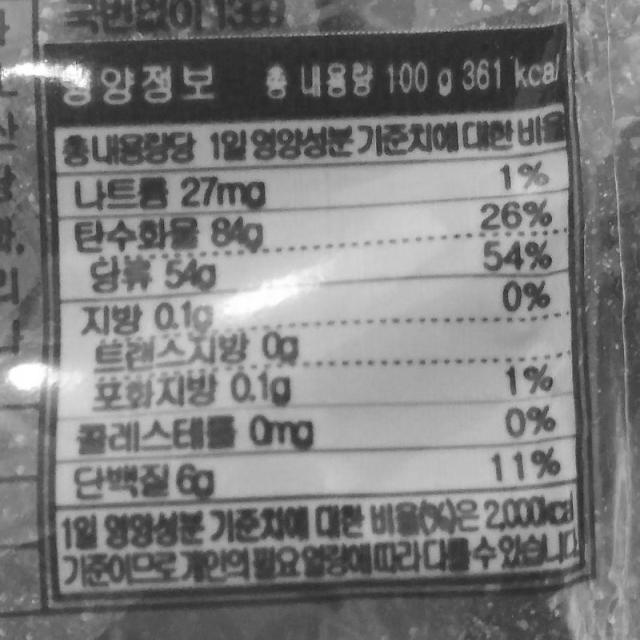Nutrition Label: (37, 30, 603, 612)
